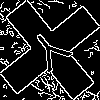Y: (25, 25, 80, 82)
